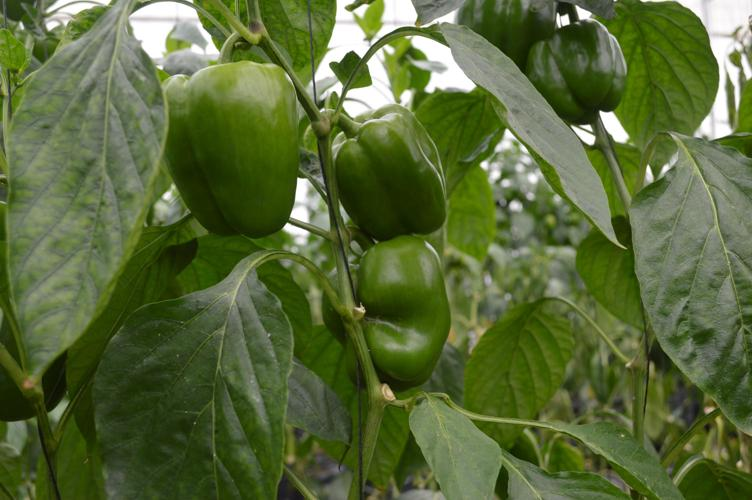BellPepper: (142, 57, 300, 247), (325, 237, 468, 394), (311, 98, 450, 239), (523, 19, 633, 131), (451, 1, 562, 77)
